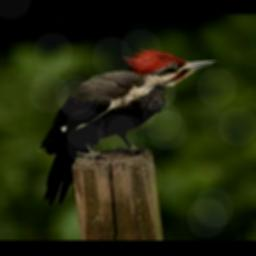Woodpecker: (26, 42, 223, 207)
